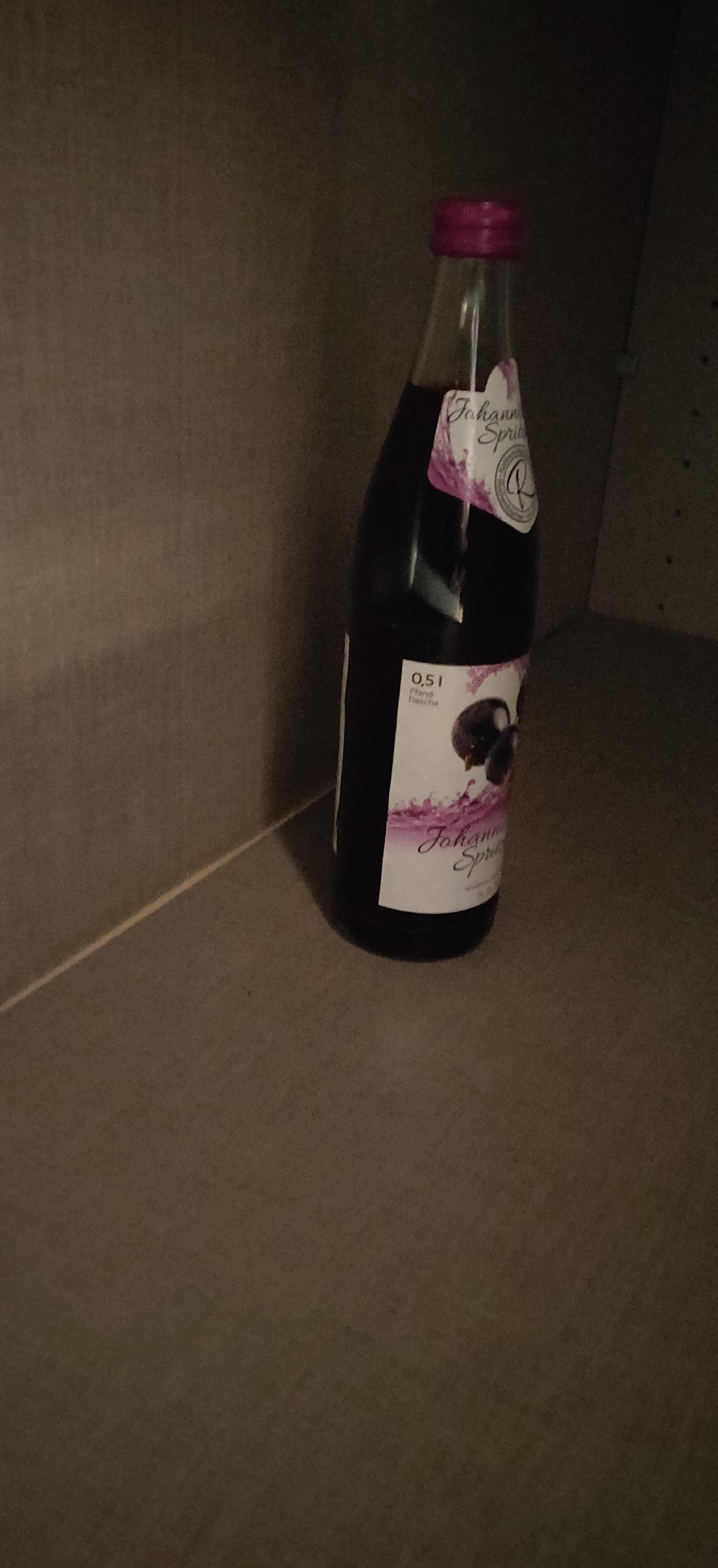bottle-glass: (314, 188, 552, 964)
